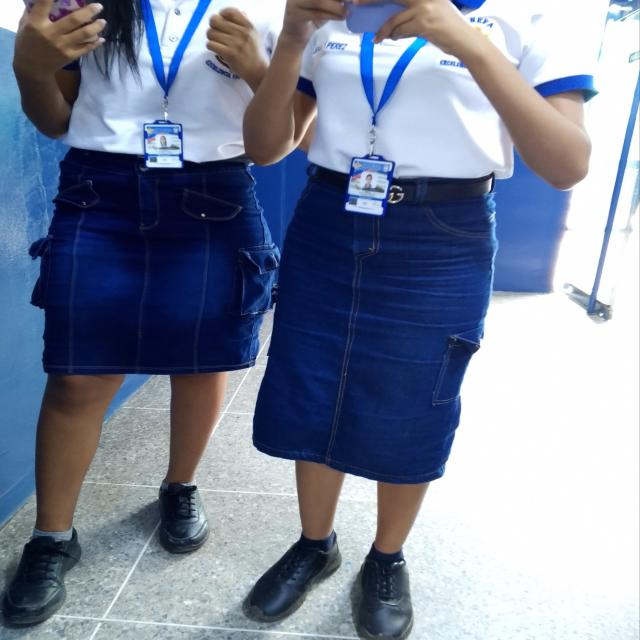carnet: (344, 158, 392, 215), (144, 124, 182, 168)
uniforme_superior: (295, 1, 598, 180), (55, 2, 279, 163)
